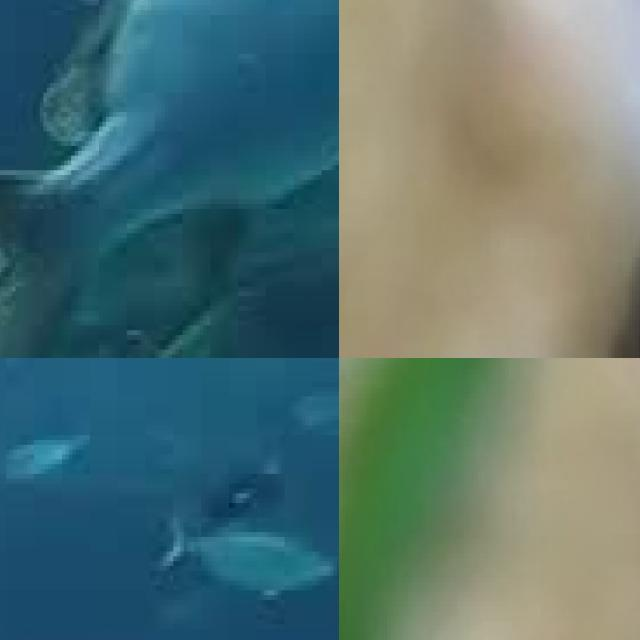fish: (0, 0, 339, 358), (339, 116, 640, 358), (411, 505, 640, 640)
